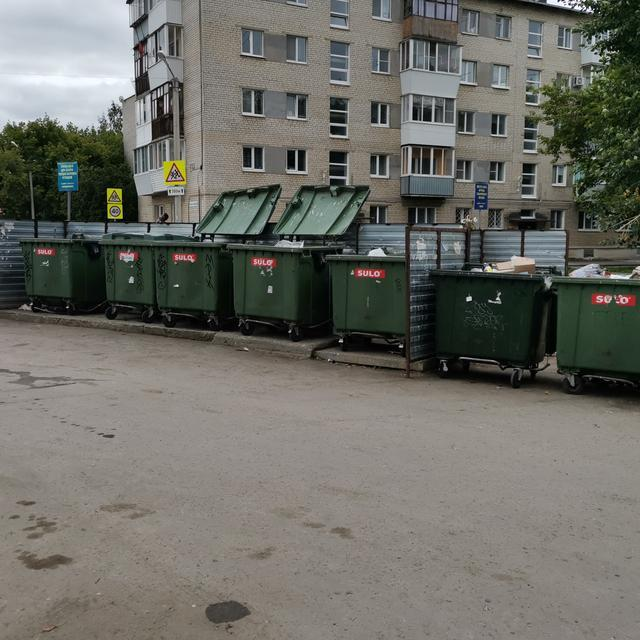Trash_Can_Closed: (99, 231, 156, 305)
Trash_Can_Empty: (155, 233, 229, 314), (21, 232, 102, 305)
Trash_Can_Full: (427, 254, 555, 367), (553, 263, 640, 376), (230, 239, 343, 324), (328, 246, 406, 336)
